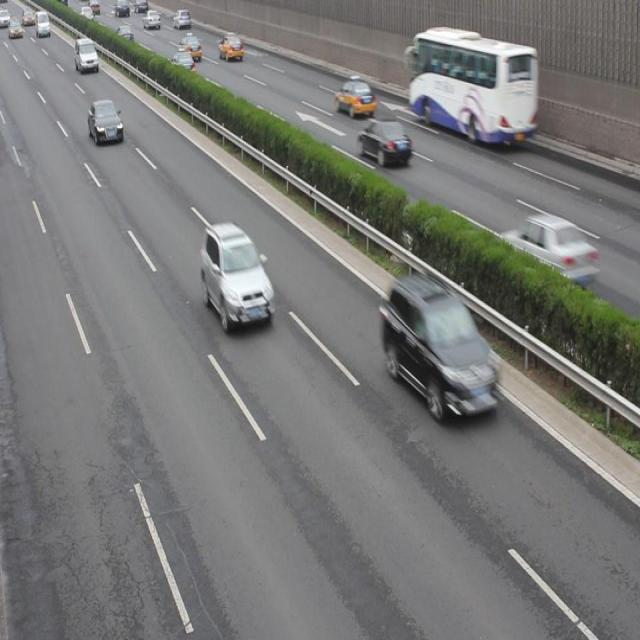car: (381, 276, 498, 420), (200, 224, 274, 326), (500, 211, 595, 290), (357, 115, 410, 166), (332, 75, 375, 115), (89, 100, 123, 142), (170, 47, 195, 74), (179, 33, 201, 61), (219, 34, 242, 60), (115, 23, 135, 47), (172, 11, 190, 29)
truck: (74, 38, 99, 76)
van: (405, 24, 536, 144)
